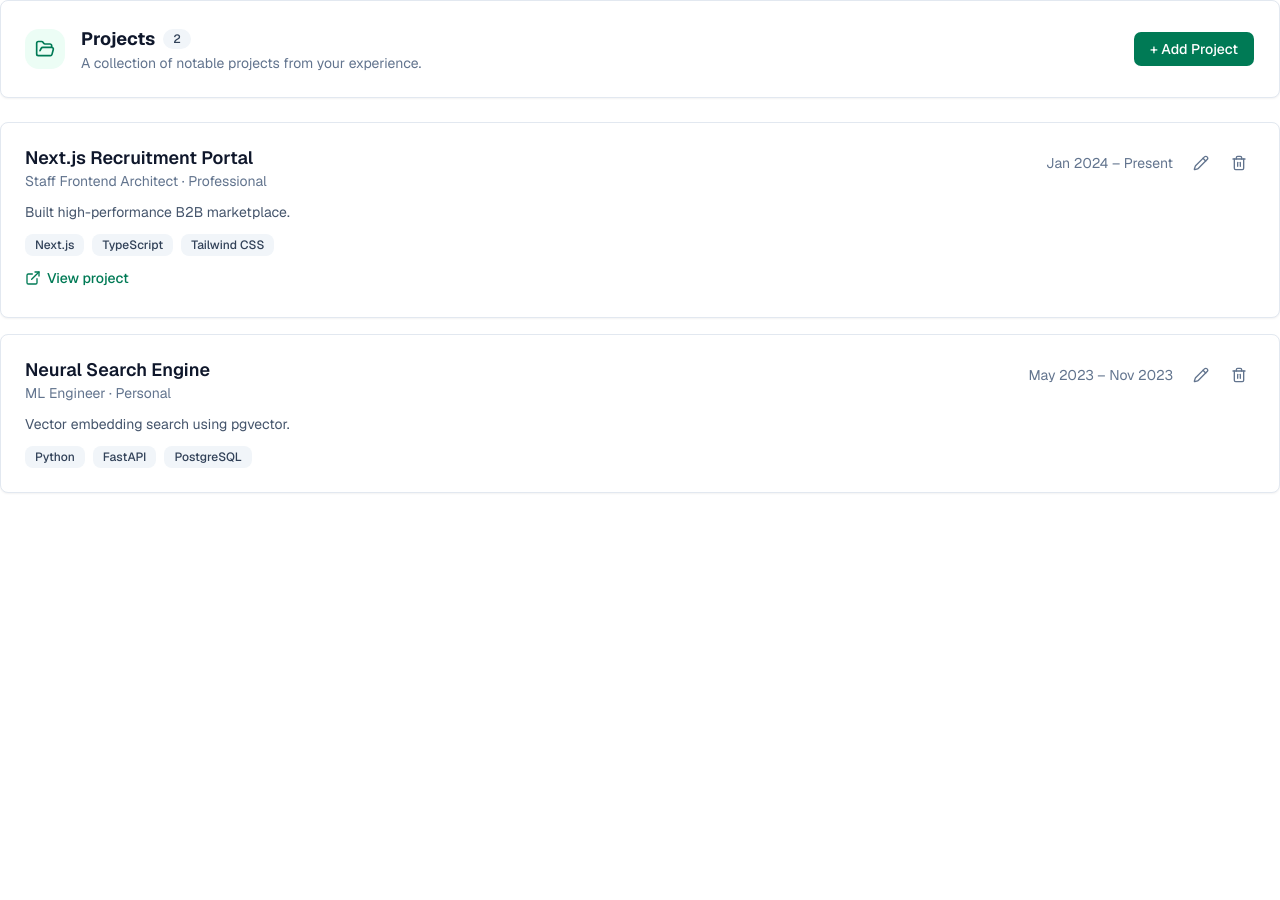
Scenario: ProjectsTabContent › opens Edit Project dialog when clicking Edit on a project card
Click the button named "Edit Next.js Recruitment Portal" at (1201, 163), box [1185,147,1217,179]
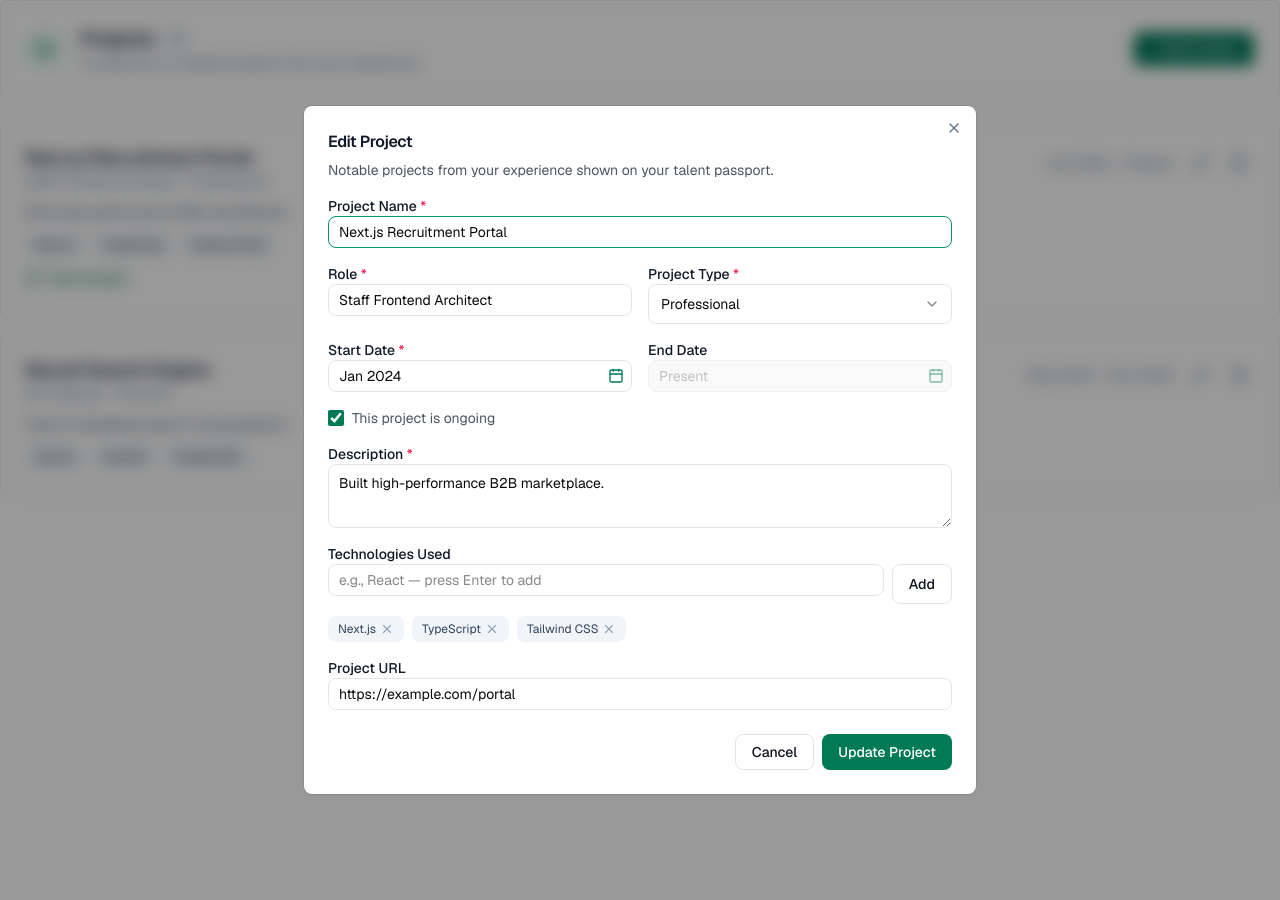
Expected: the heading "Edit Project" is shown, [328,131,412,152]
Expected: the field showing "Next.js Recruitment Portal" is shown, [328,216,952,248]
